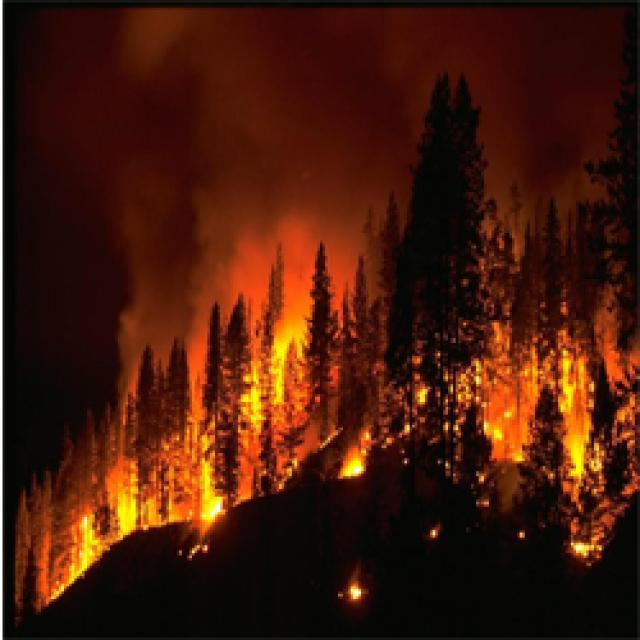Fire: (0, 366, 282, 568), (452, 290, 640, 569), (183, 217, 334, 488), (302, 406, 396, 490)
Smoke: (0, 0, 420, 317)
